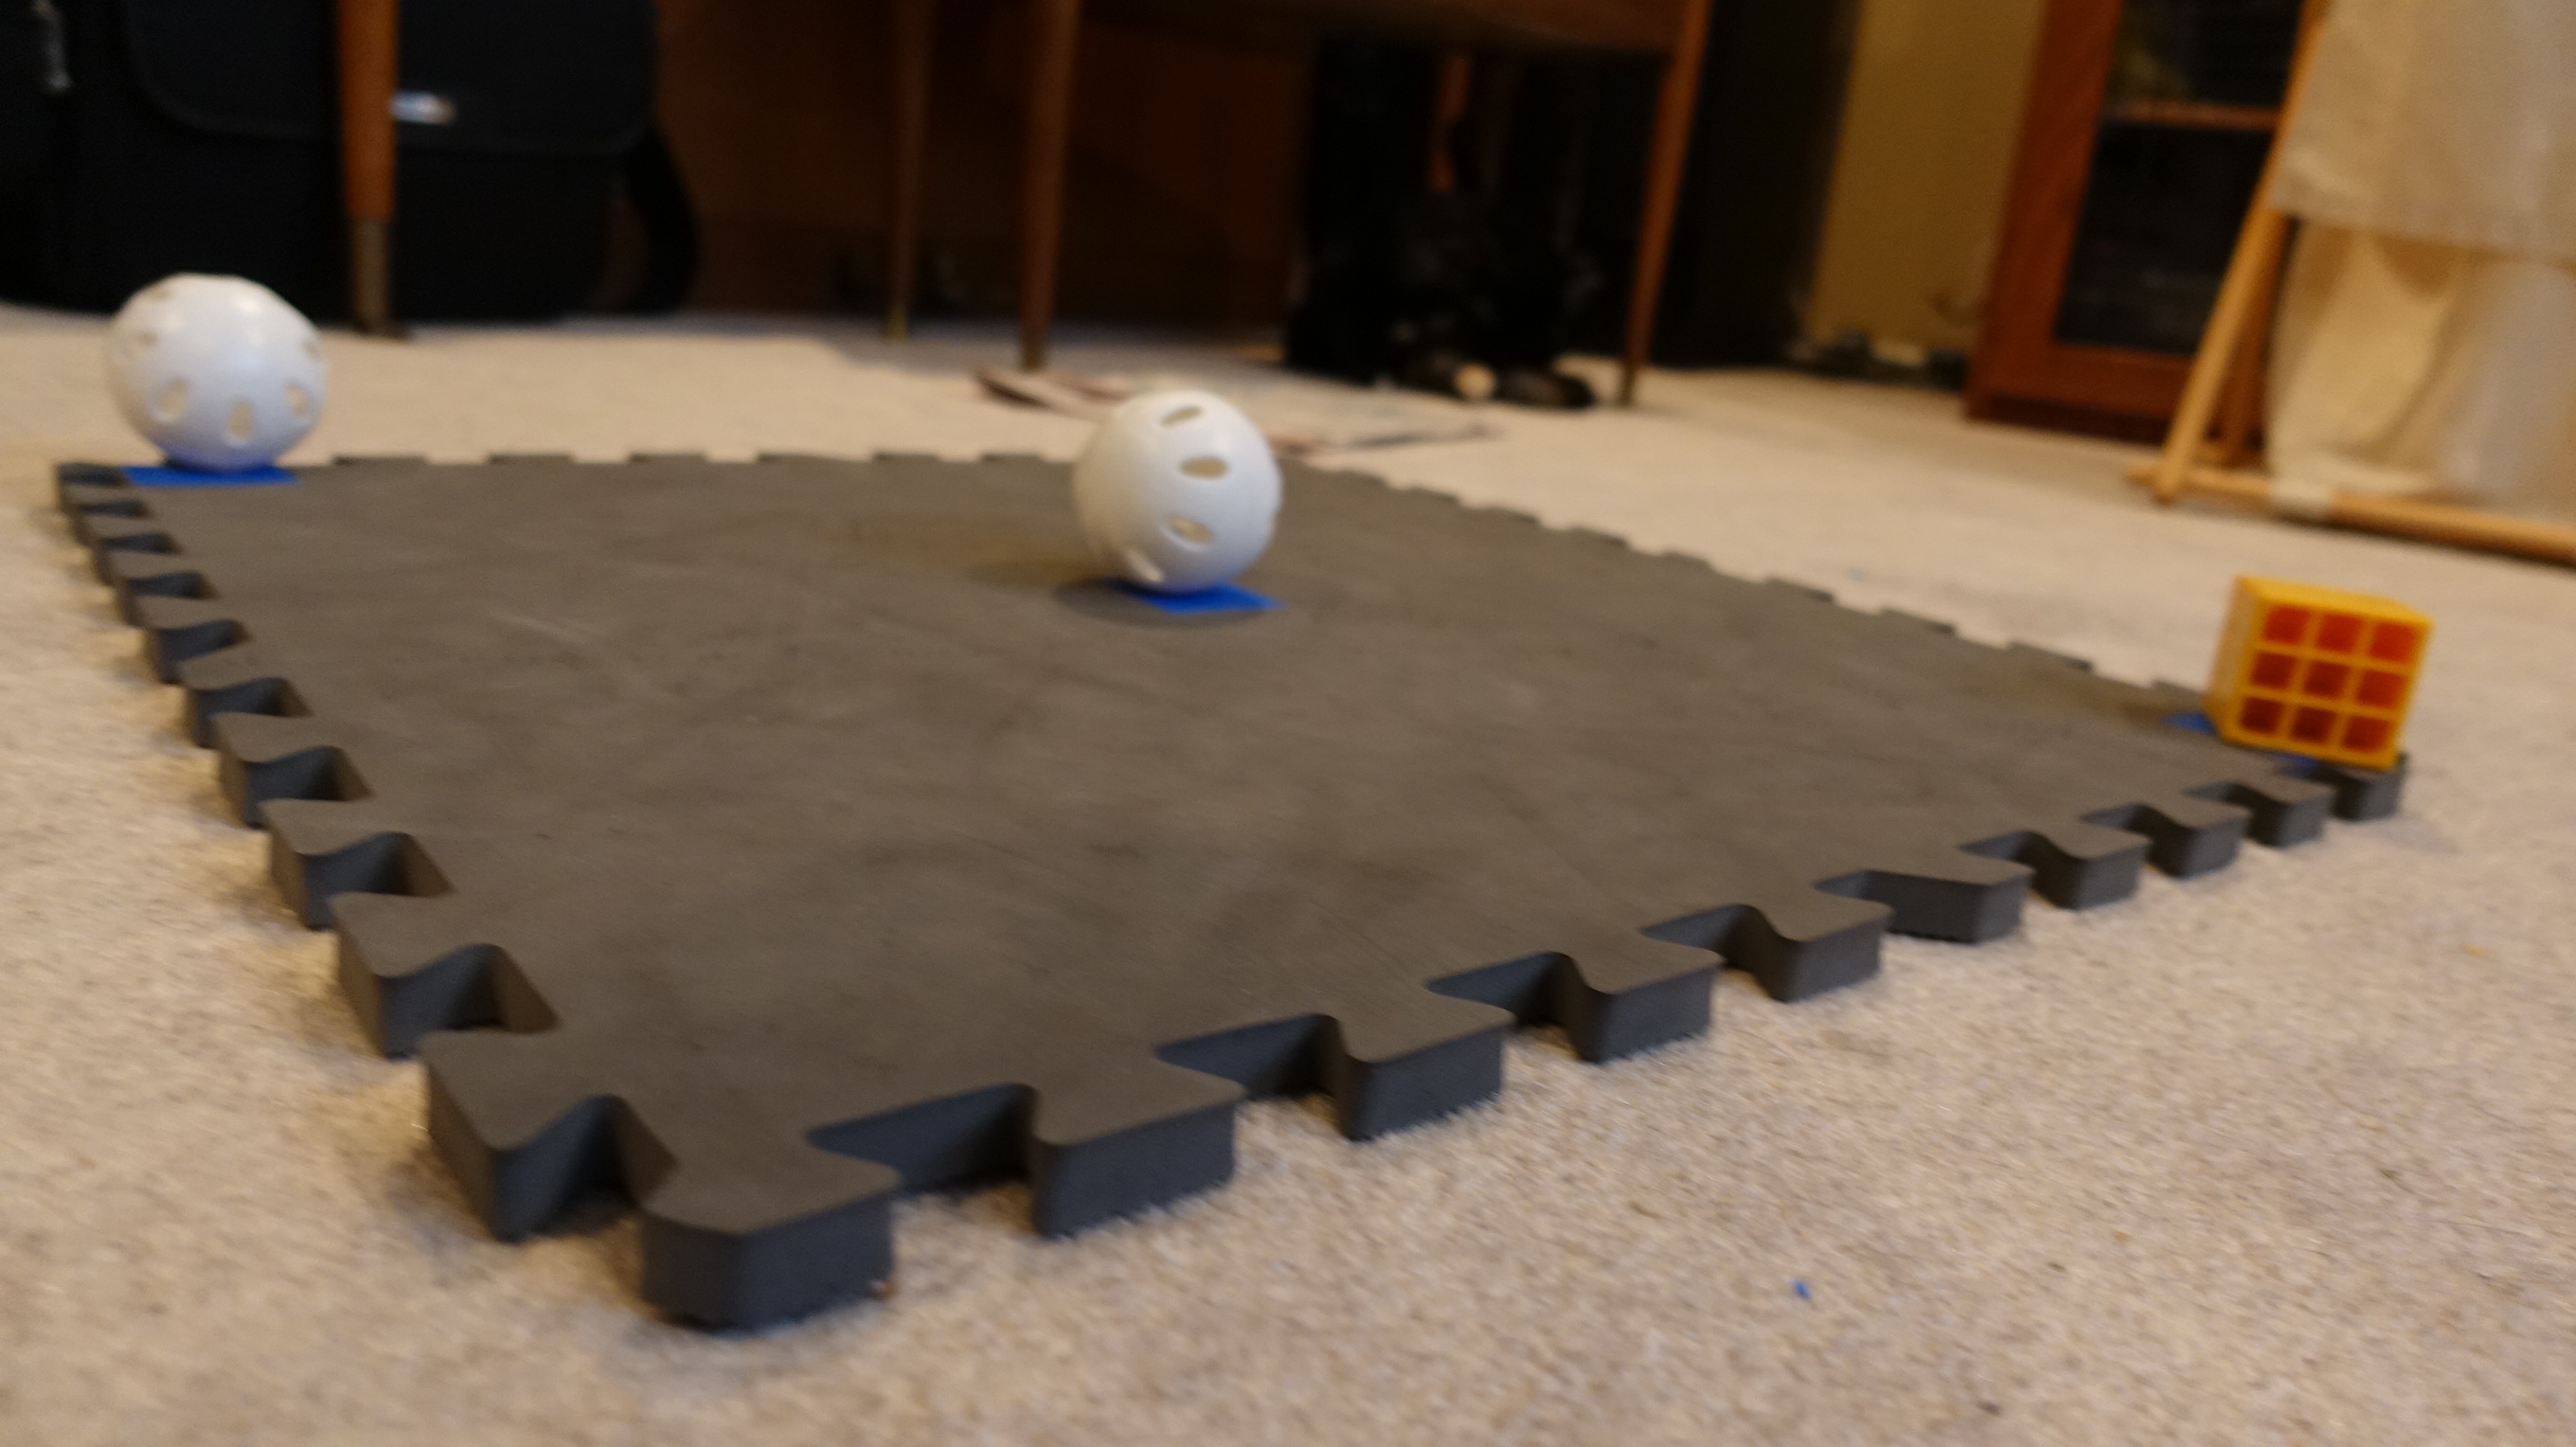gold: (2192, 561, 2433, 777)
silver: (103, 267, 329, 472), (1072, 382, 1288, 593)
